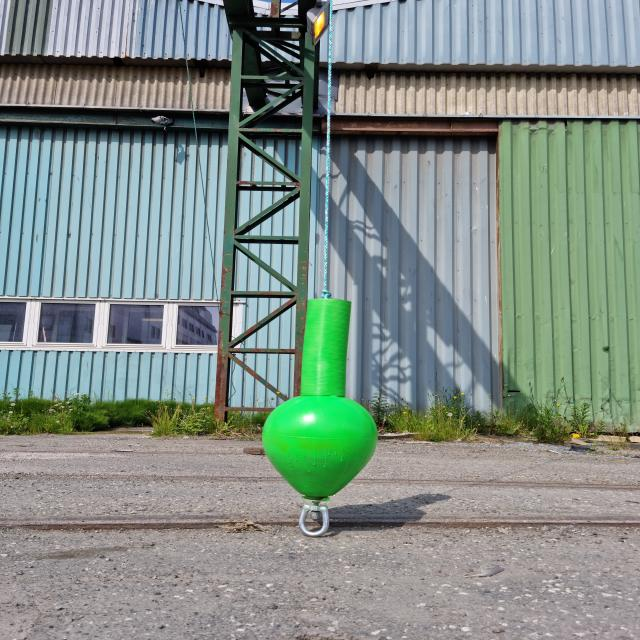green: (262, 296, 380, 498)
